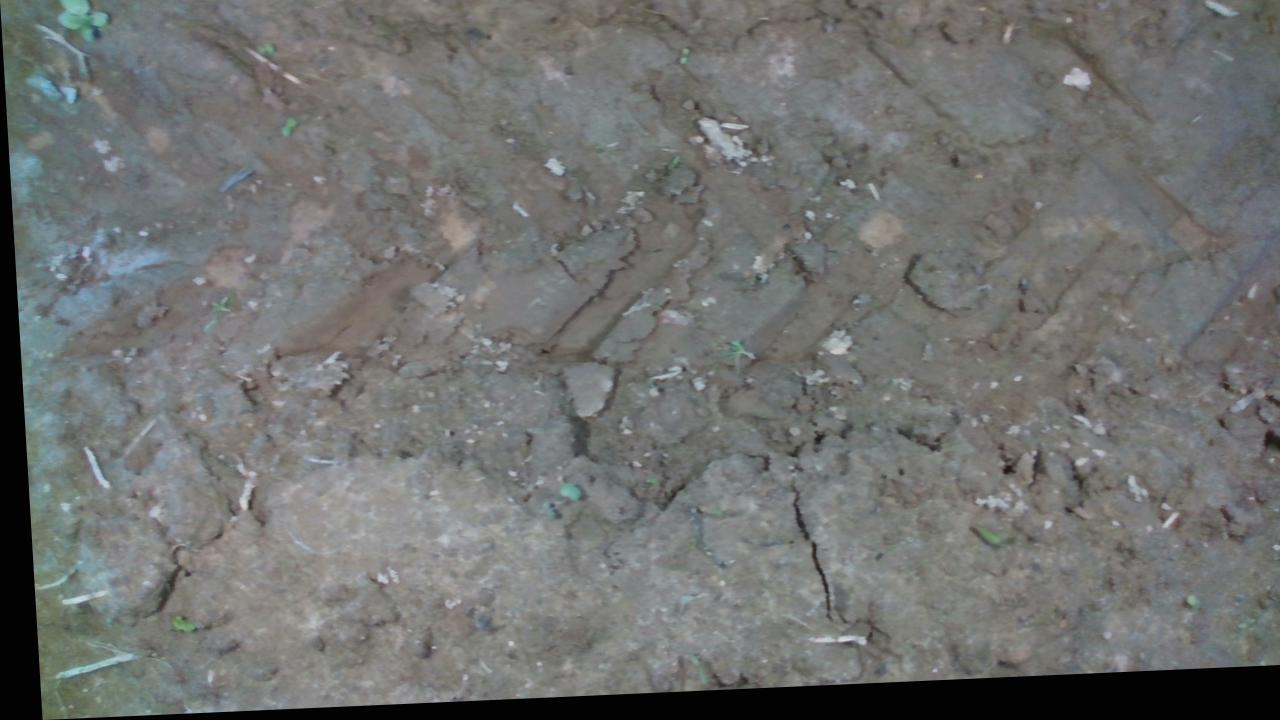weed: (275, 117, 296, 140), (675, 51, 688, 72), (252, 44, 273, 56)
